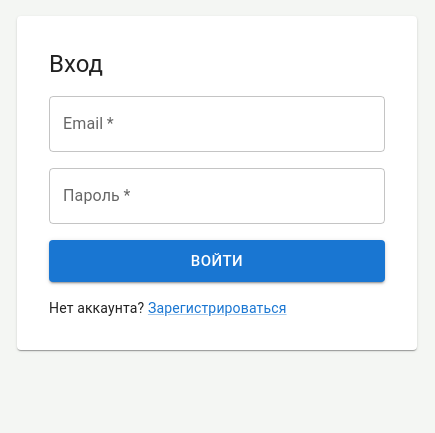
Test: AuthForm › показывает ошибку входа
In the field labelled "Email *": (217, 124) 49,96 -> 385,152, type "anna@example.com"
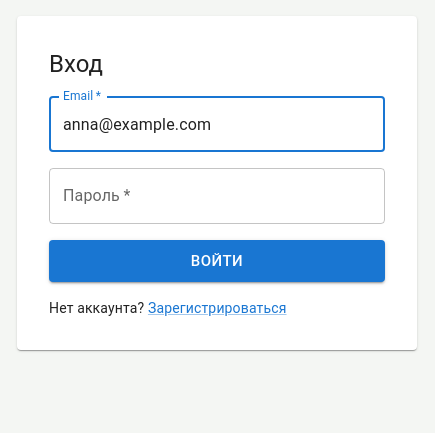
In the password field labelled "Пароль *": (217, 196) 49,168 -> 385,224, type "wrong-password"
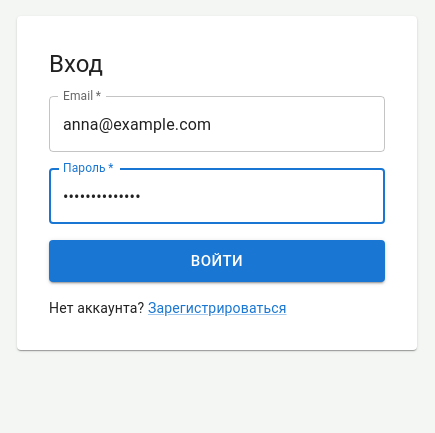
Click the button "Войти": (217, 261) 49,240 -> 385,282
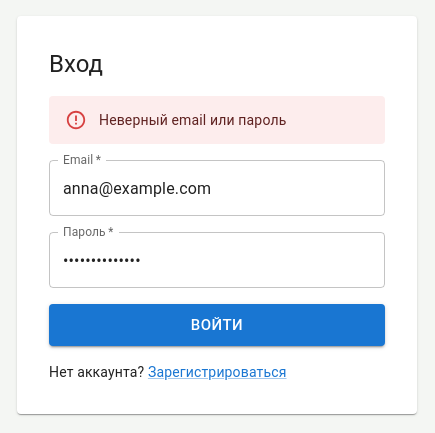
Expected: the button "Войти" is enabled, 49,304 -> 385,346
Expected: the message reads "Неверный email или пароль", 99,112 -> 286,128
